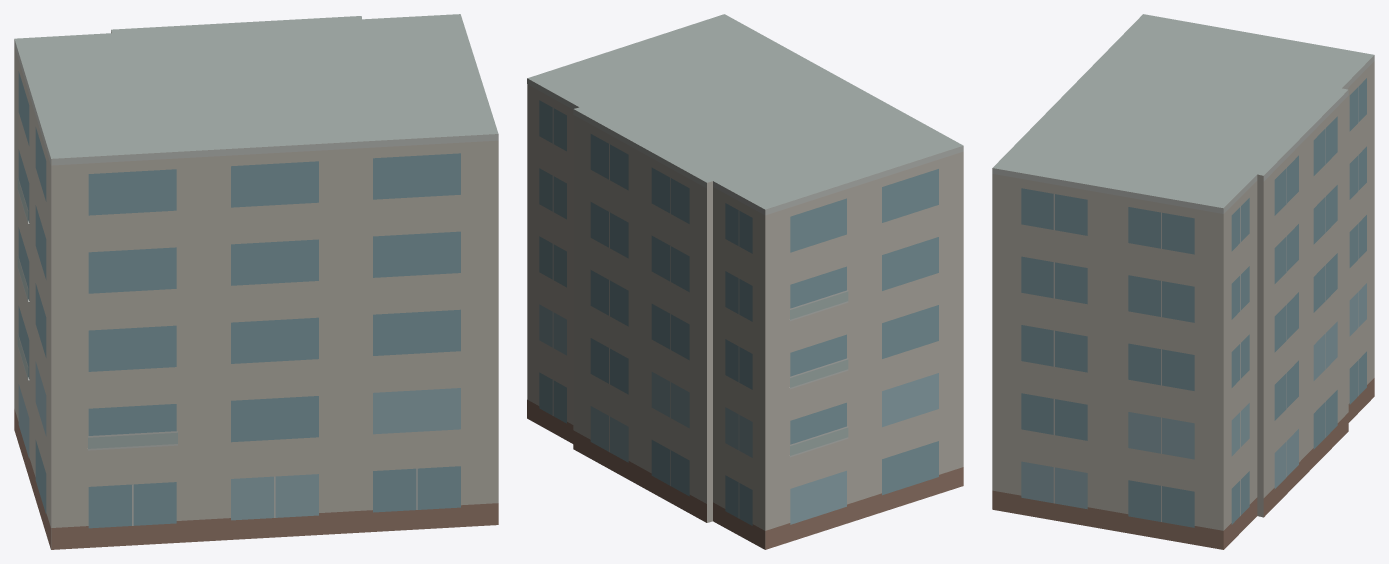
Rendered from survey-upis-32493098.glb.
3 views of the same model, side by side, from view 1: azimuth 30°, elevation 25°; view 2: azimuth 150°, elevation 25°; view 3: azimuth 270°, elevation 25° (orthographic). The views are drawn at different scales.
Visible parts, largest first — view 1: survey-upis-32493098.tmp; view 2: survey-upis-32493098.tmp; view 3: survey-upis-32493098.tmp.
Boxes of the visible parts, x1,y1,x2,y2 form: survey-upis-32493098.tmp: (14,14,498,549); survey-upis-32493098.tmp: (527,14,963,549); survey-upis-32493098.tmp: (992,14,1374,549).
Size of the model in its own units: 17.38 by 14.25 by 14.46.
